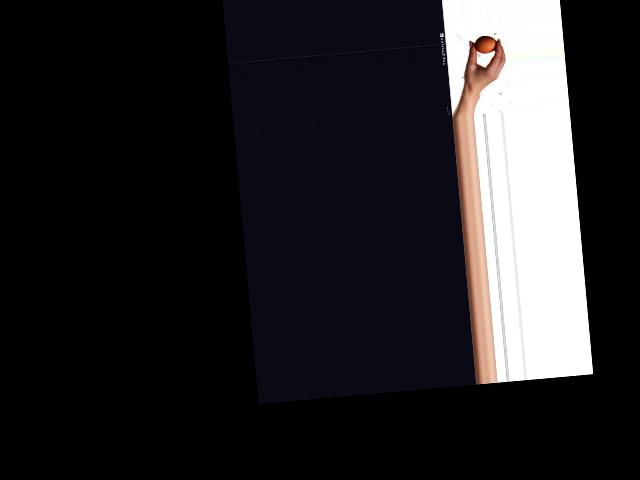egg: (473, 35, 497, 55)
